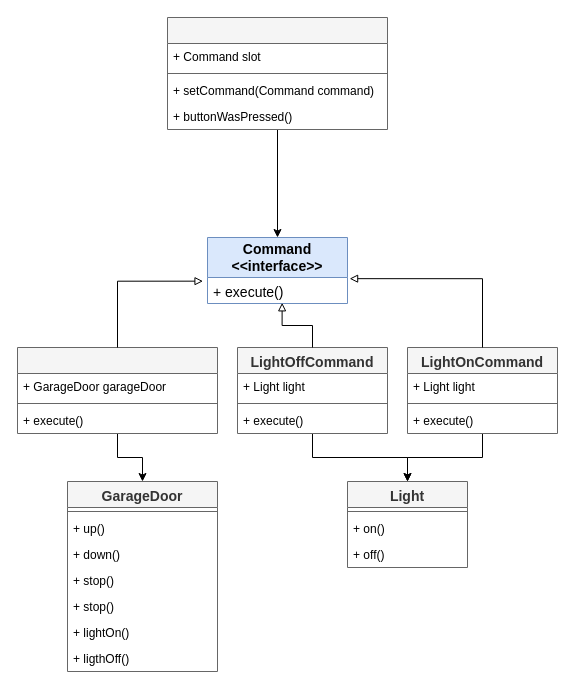
Some shapes in this 575 by 692 pixel diagram are drawn without their labels. Here are the shapes that lost their labels. From the top down, the box of each, then its label:
(166, 16, 388, 130): SimpleRemoteControl
(16, 346, 218, 434): GarageDoorOpenCommand
